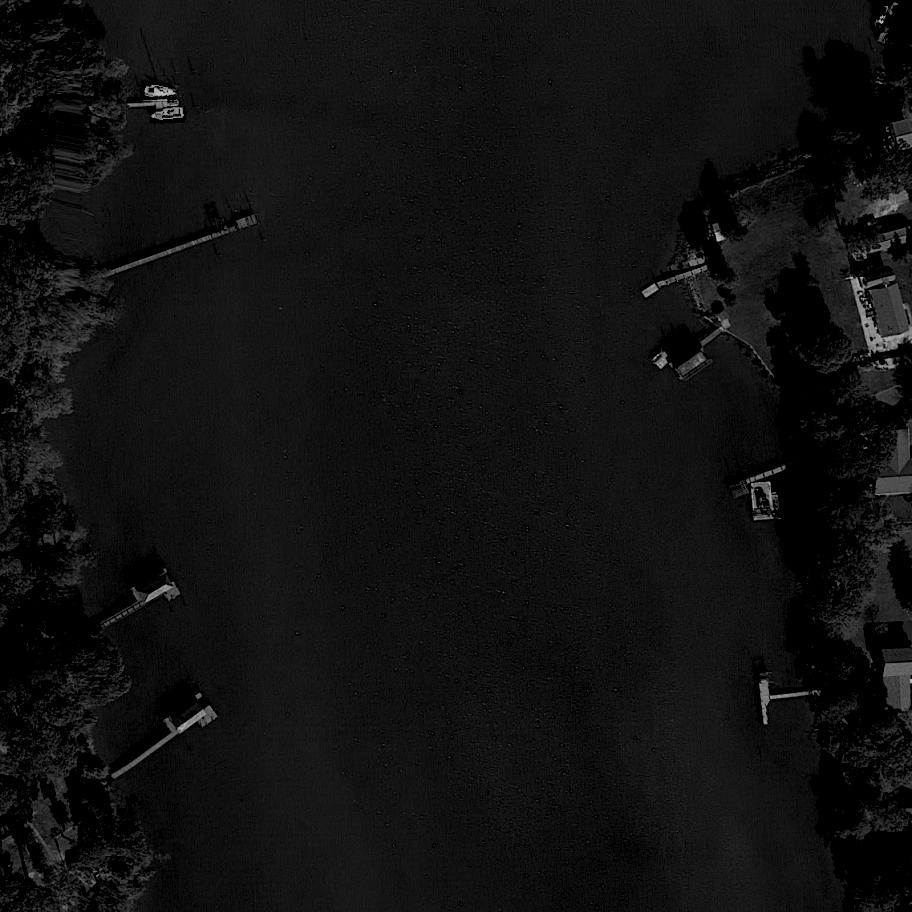ship: (150, 106, 187, 125), (143, 85, 177, 102), (873, 3, 891, 33)
small-vehicle: (886, 36, 906, 48)
